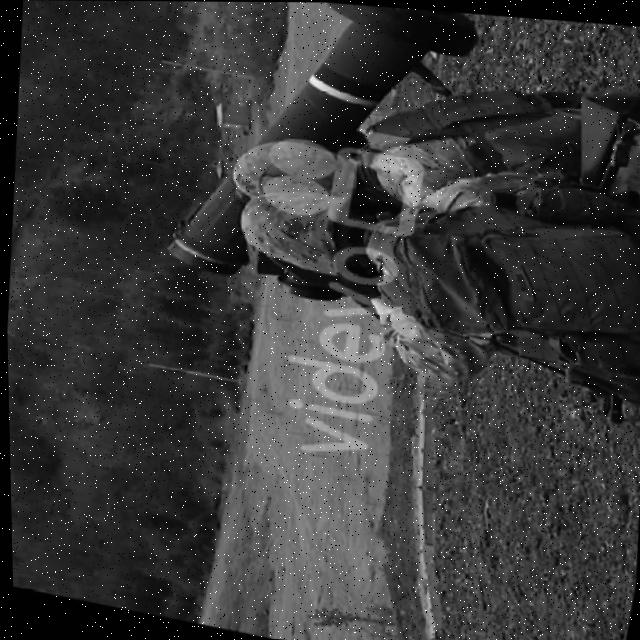rocket: (156, 1, 483, 312)
